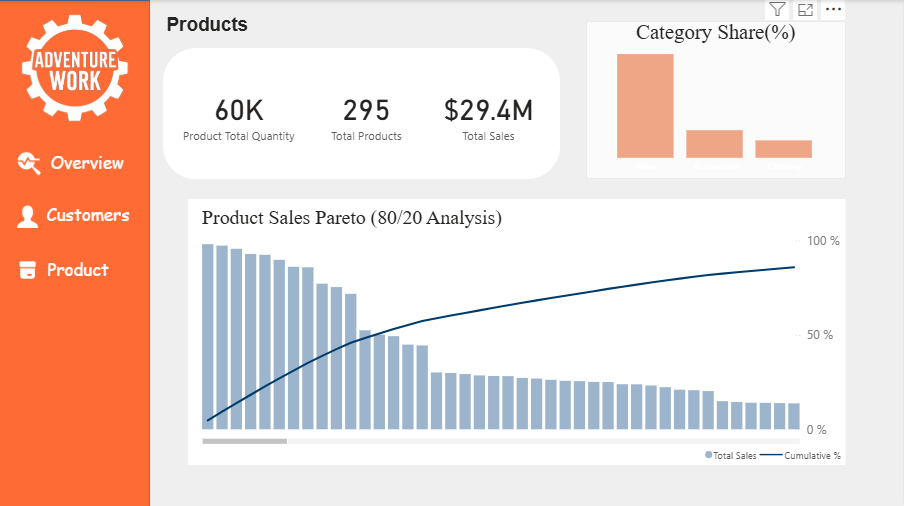

What the dashboard file says about the page in this screenshot:
{"tool":"powerbi","page":{"name":"Products","canvas":[1280,720],"ordinal":2},"visuals":[{"type":"group","id":"g1","title":"navigate","box":[0,0,214.4,720.2],"z":0},{"type":"shape","box":[0,0,214.4,720.2],"z":0,"group":"g1"},{"type":"textbox","box":[232.4,15.4,148.7,42.7],"z":1000},{"type":"textbox","box":[67.9,208.2,134.2,46.9],"z":1000,"group":"g2"},{"type":"image","box":[0,0,214.4,193.1],"z":2000,"group":"g1"},{"type":"shape","box":[233,68.1,562.8,186.1],"z":2000},{"type":"card","fields":{"Values":["dimProducts.Product Total Quantity"]},"box":[255.7,104.4,169.5,113.5],"z":3000},{"type":"textbox","box":[63.8,360.1,134.2,47.5],"z":3000,"group":"g1"},{"type":"card","fields":{"Values":["Count(dimProducts.ProductName)"]},"box":[441.8,104.4,157.4,113.5],"z":4000},{"type":"image","box":[16.4,356.8,47.5,50.7],"z":4000,"group":"g1"},{"type":"card","fields":{"Values":["factSales.Total Sales"]},"box":[615.8,104.4,157.4,113.5],"z":5000},{"type":"textbox","box":[62.9,281.7,135.9,50.1],"z":5000,"group":"g1"},{"type":"lineClusteredColumnComboChart","title":"Product Sales Pareto (80/20 Analysis)","fields":{"Y":["factSales.Total Sales"],"Y2":["dimProducts.Cumulative %"],"Category":["dimProducts.ProductName"]},"box":[267.8,281.4,932,376.7],"z":6000},{"type":"image","box":[16.4,281.5,47.5,50.7],"z":6000,"group":"g1"},{"type":"columnChart","title":"Category Share(%)","fields":{"Category":["dimProducts.CategoryName"],"Y":["factSales.Category Share Log"]},"box":[832.2,30.3,367.7,223.9],"z":7000},{"type":"image","box":[20.4,206.7,47.5,50.7],"z":7000,"group":"g2"},{"type":"actionButton","box":[0,208.8,214.5,52.9],"z":8000},{"type":"group","id":"g2","title":"Group 1","box":[20.4,206.7,181.7,50.7],"z":8001,"group":"g1"},{"type":"actionButton","box":[0,278.9,214.5,52.9],"z":9000},{"type":"actionButton","box":[0,356.1,214.5,52.9],"z":10000}]}

Visuals, with their boxes on the page's 1280x720 design canvas (x1, y1, x2, y2). These are canvas units, not pixel positions in the 904x506 screenshot, which may show the page scaled, cropped or inside an application window:
"navigate" group: <box>0,0,214,720</box>
shape: <box>0,0,214,720</box>
textbox: <box>232,15,381,58</box>
textbox: <box>68,208,202,255</box>
image: <box>0,0,214,193</box>
shape: <box>233,68,796,254</box>
card - dimProducts.Product Total Quantity: <box>256,104,425,218</box>
textbox: <box>64,360,198,408</box>
card - Count(dimProducts.ProductName): <box>442,104,599,218</box>
image: <box>16,357,64,408</box>
card - factSales.Total Sales: <box>616,104,773,218</box>
textbox: <box>63,282,199,332</box>
"Product Sales Pareto (80/20 Analysis)" lineClusteredColumnComboChart: <box>268,281,1200,658</box>
image: <box>16,282,64,332</box>
"Category Share(%)" columnChart: <box>832,30,1200,254</box>
image: <box>20,207,68,257</box>
actionButton: <box>0,209,214,262</box>
"Group 1" group: <box>20,207,202,257</box>
actionButton: <box>0,279,214,332</box>
actionButton: <box>0,356,214,409</box>
